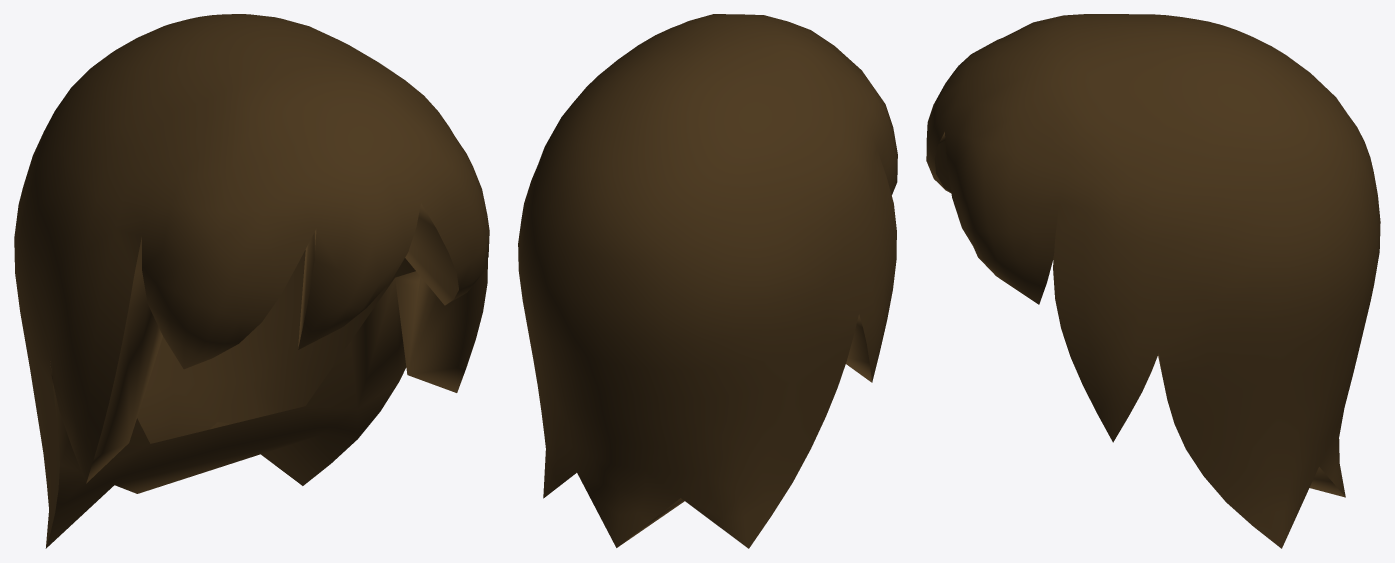
Rendered from hair_071.gltf.
3 renders of one model, left to right at view 1: azimuth 30°, elevation 25°; view 2: azimuth 150°, elevation 25°; view 3: azimuth 270°, elevation 25°, orthographic. The views are drawn at different scales.
Parts seen in each view (by area): view 1: hair.134; view 2: hair.134; view 3: hair.134.
Part boxes in pixels (x1=…): hair.134: x1=14, y1=14, x2=489, y2=548; hair.134: x1=518, y1=14, x2=897, y2=548; hair.134: x1=926, y1=14, x2=1380, y2=548.
Bounding box in the file's own units: 0.1152 × 0.1487 × 0.1307.
